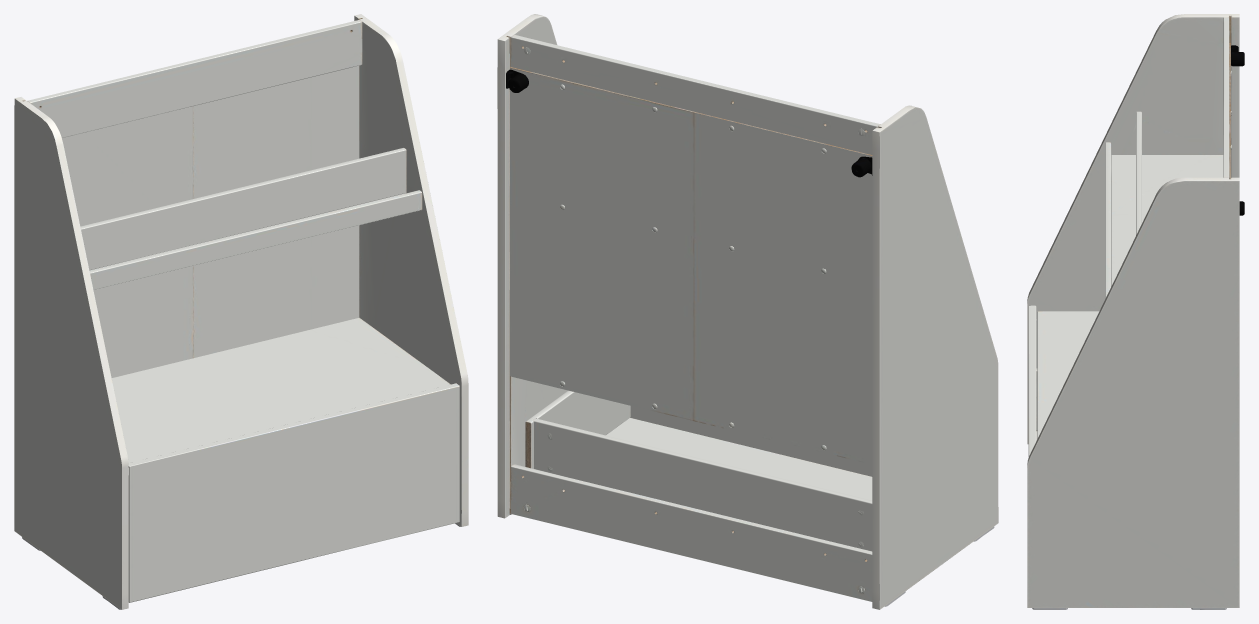
File: bergig_rega_na_ksiazki_z_szuflada_60598100.glb
The picture shows the model from 3 angles, left to right: view 1: azimuth 30°, elevation 25°; view 2: azimuth 150°, elevation 25°; view 3: azimuth 270°, elevation 25°; orthographic projection. The views are drawn at different scales.
Parts seen in each view (by area): view 1: bergig_rega_na_ksiazki_z_szuflada_60598100; view 2: bergig_rega_na_ksiazki_z_szuflada_60598100; view 3: bergig_rega_na_ksiazki_z_szuflada_60598100.
Boxes of the visible parts, x1,y1,x2,y2 form: bergig_rega_na_ksiazki_z_szuflada_60598100: (14, 14, 468, 609); bergig_rega_na_ksiazki_z_szuflada_60598100: (497, 14, 998, 609); bergig_rega_na_ksiazki_z_szuflada_60598100: (1027, 14, 1244, 609).
Size of the model in its own units: 0.796 by 0.955 by 0.438.
Materials: 6 (6 with a texture image).
